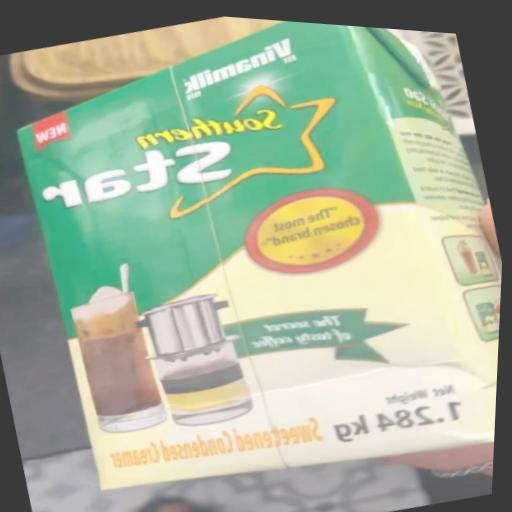ly_giay: (20, 21, 502, 487)
